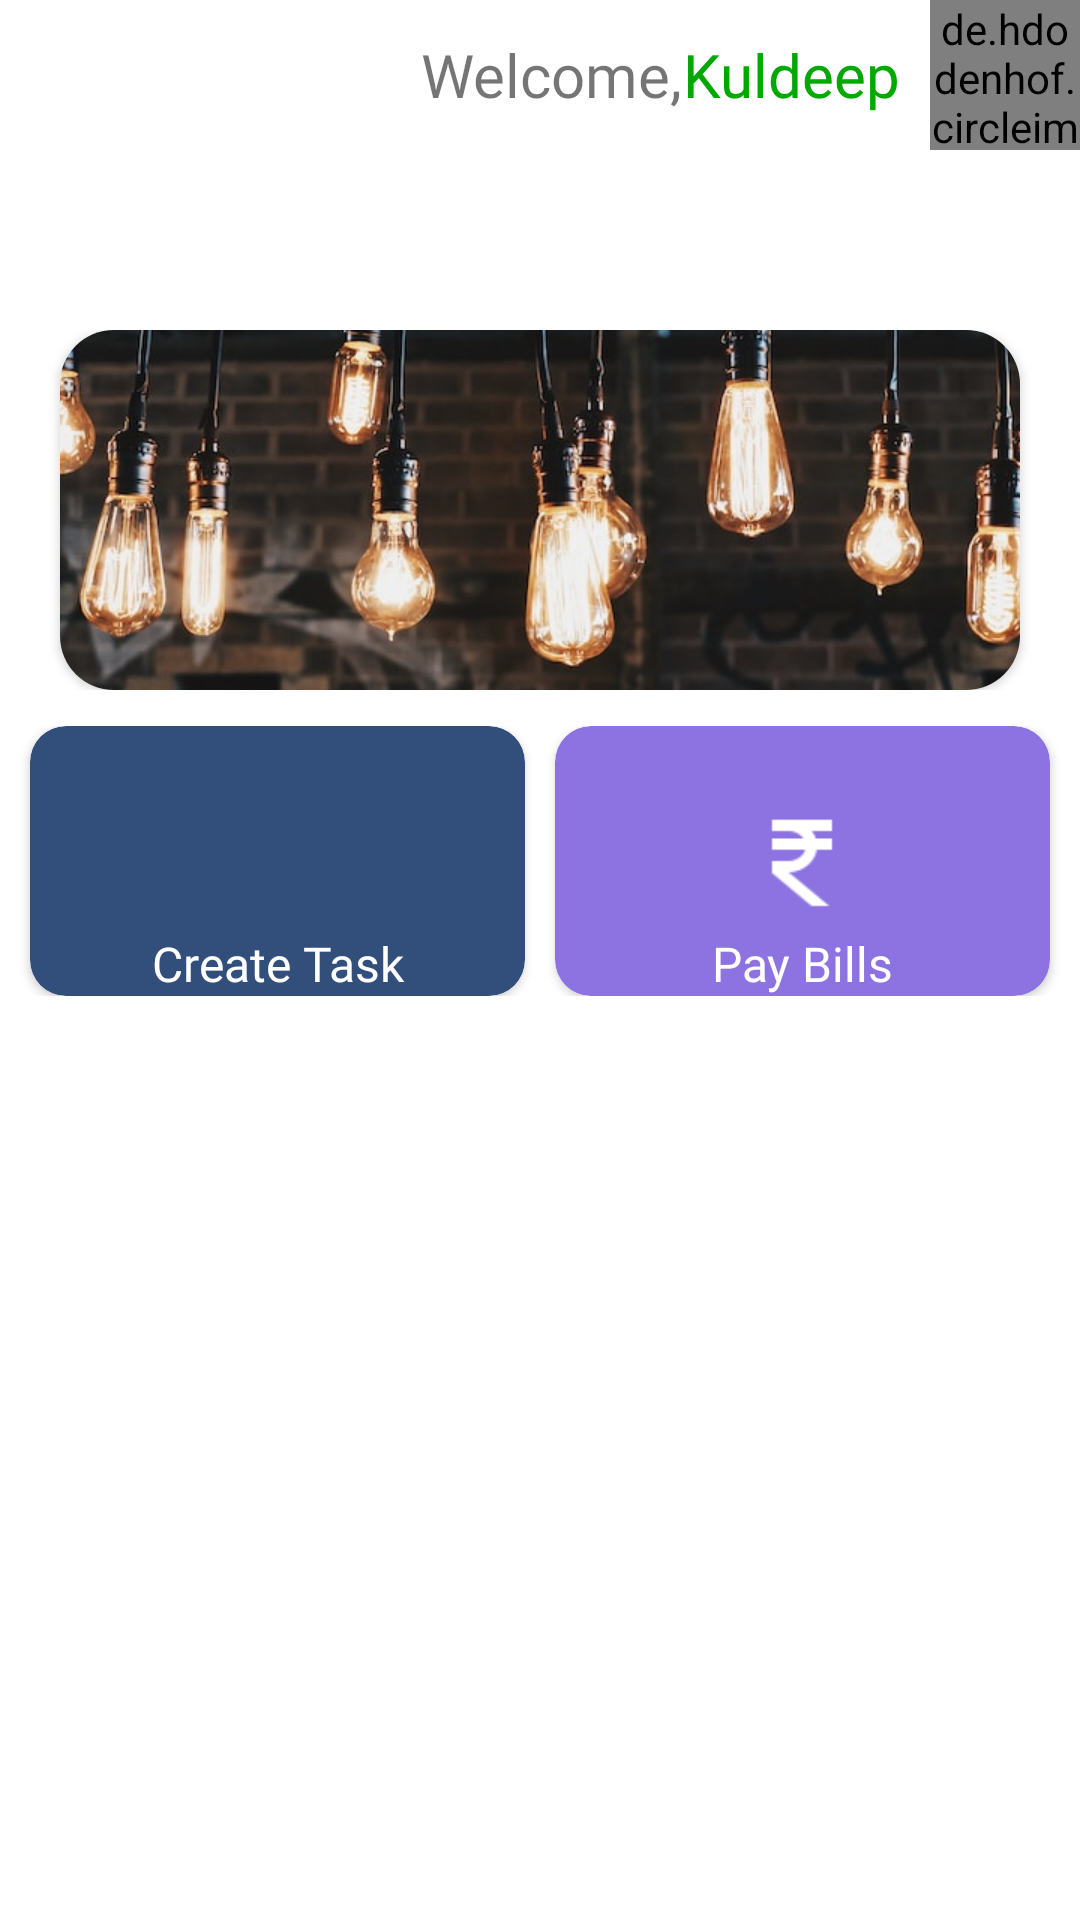

Icon bounding boxes for this 1080 x 1920 phone screenshot, format [x1,y1,x2,y2]:
rupee: [771,819,841,951]
